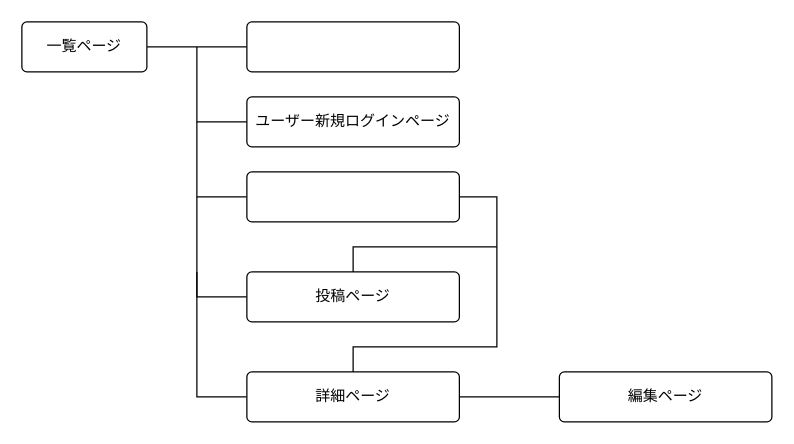
Some shapes in this 794 by 444 pixel diagram are drawn without their labels. The shapes that lost their labels are listed below. From the top down, each one's centre as x and y in pixels, then its label:
At point 352,46: "ユーザーログインページ".
At point 352,196: "ユーザーマイページ".
